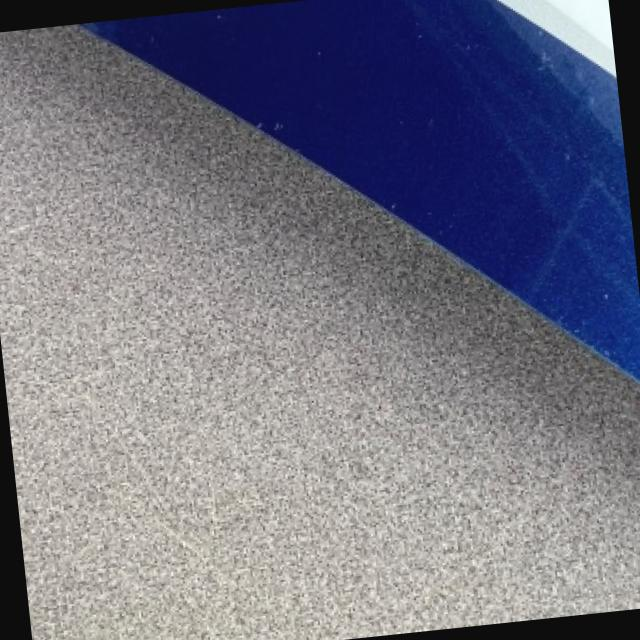healthy: (0, 24, 640, 640)
